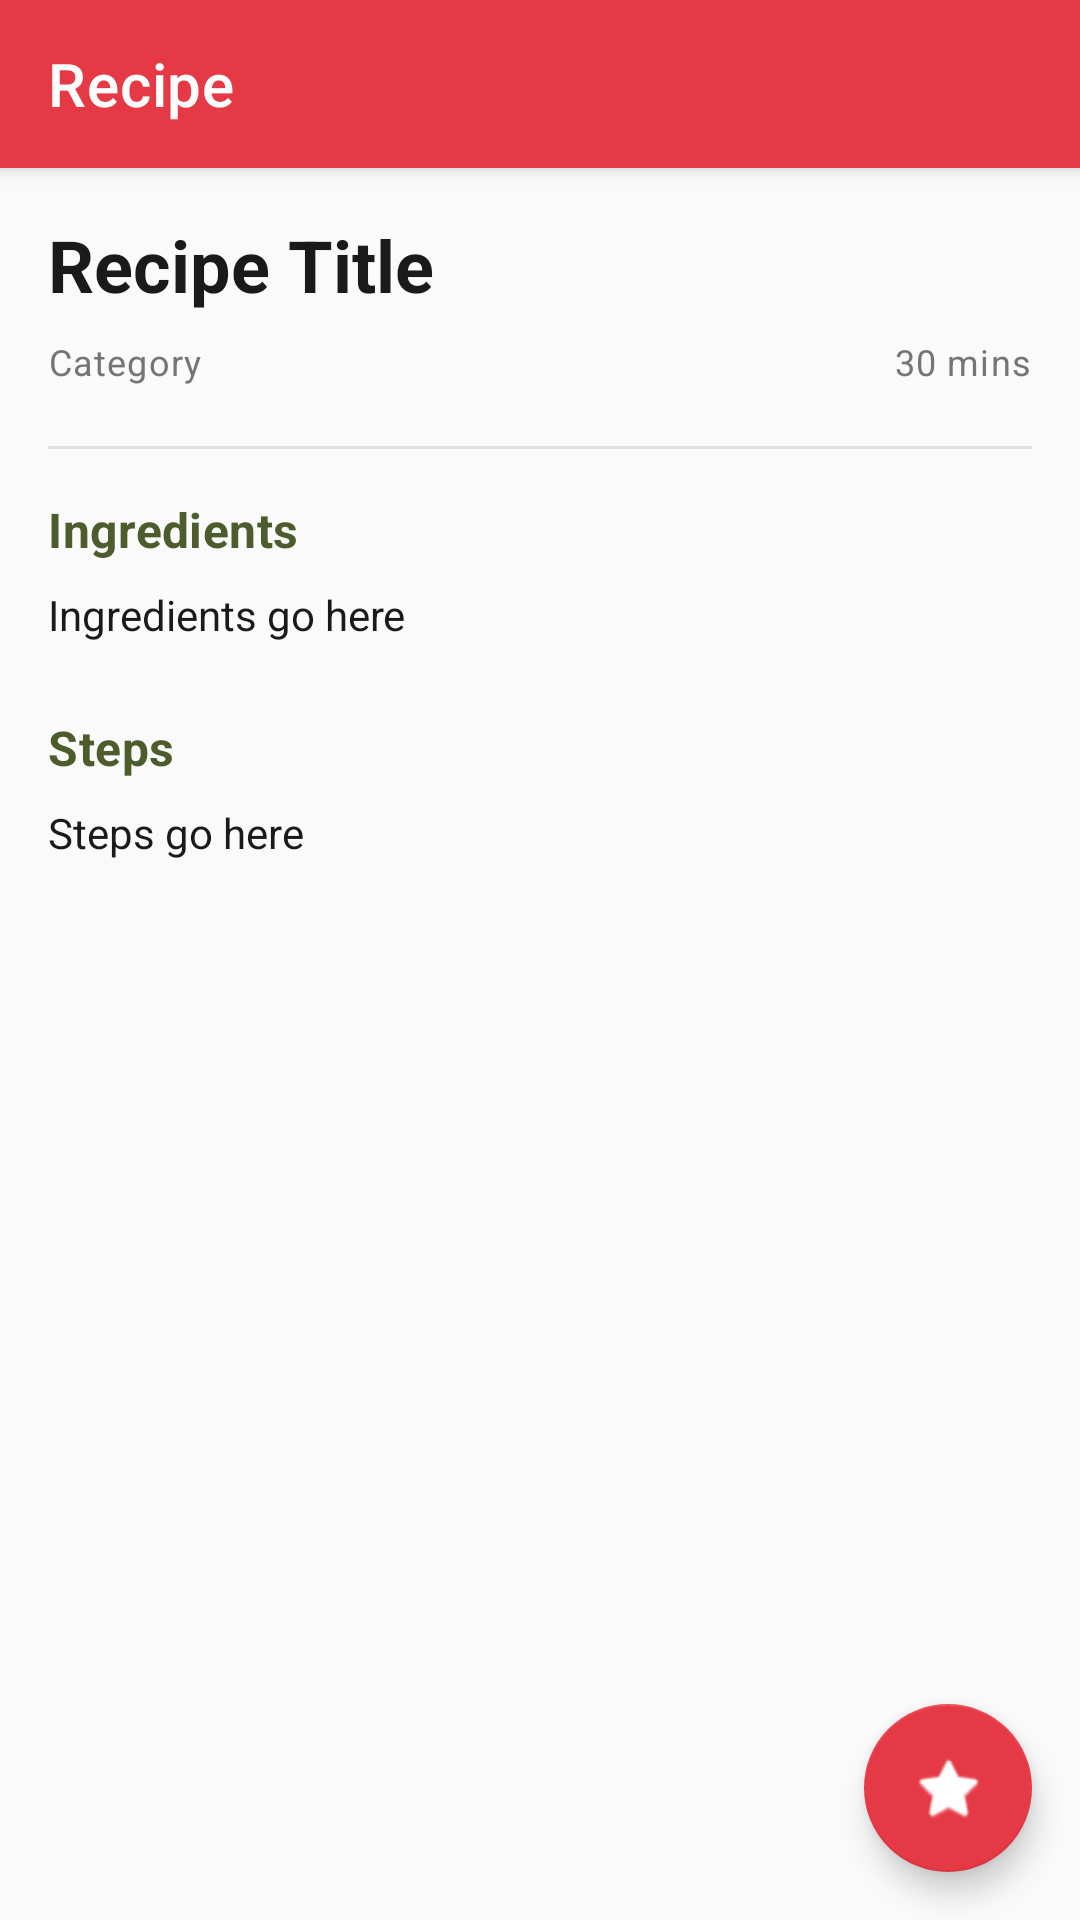

Screen size 1080px×1920px. Icon name, then its box in pixels as (x1, y1, x2, y2):
Toggle favourite: (864, 1704, 1032, 1872)
